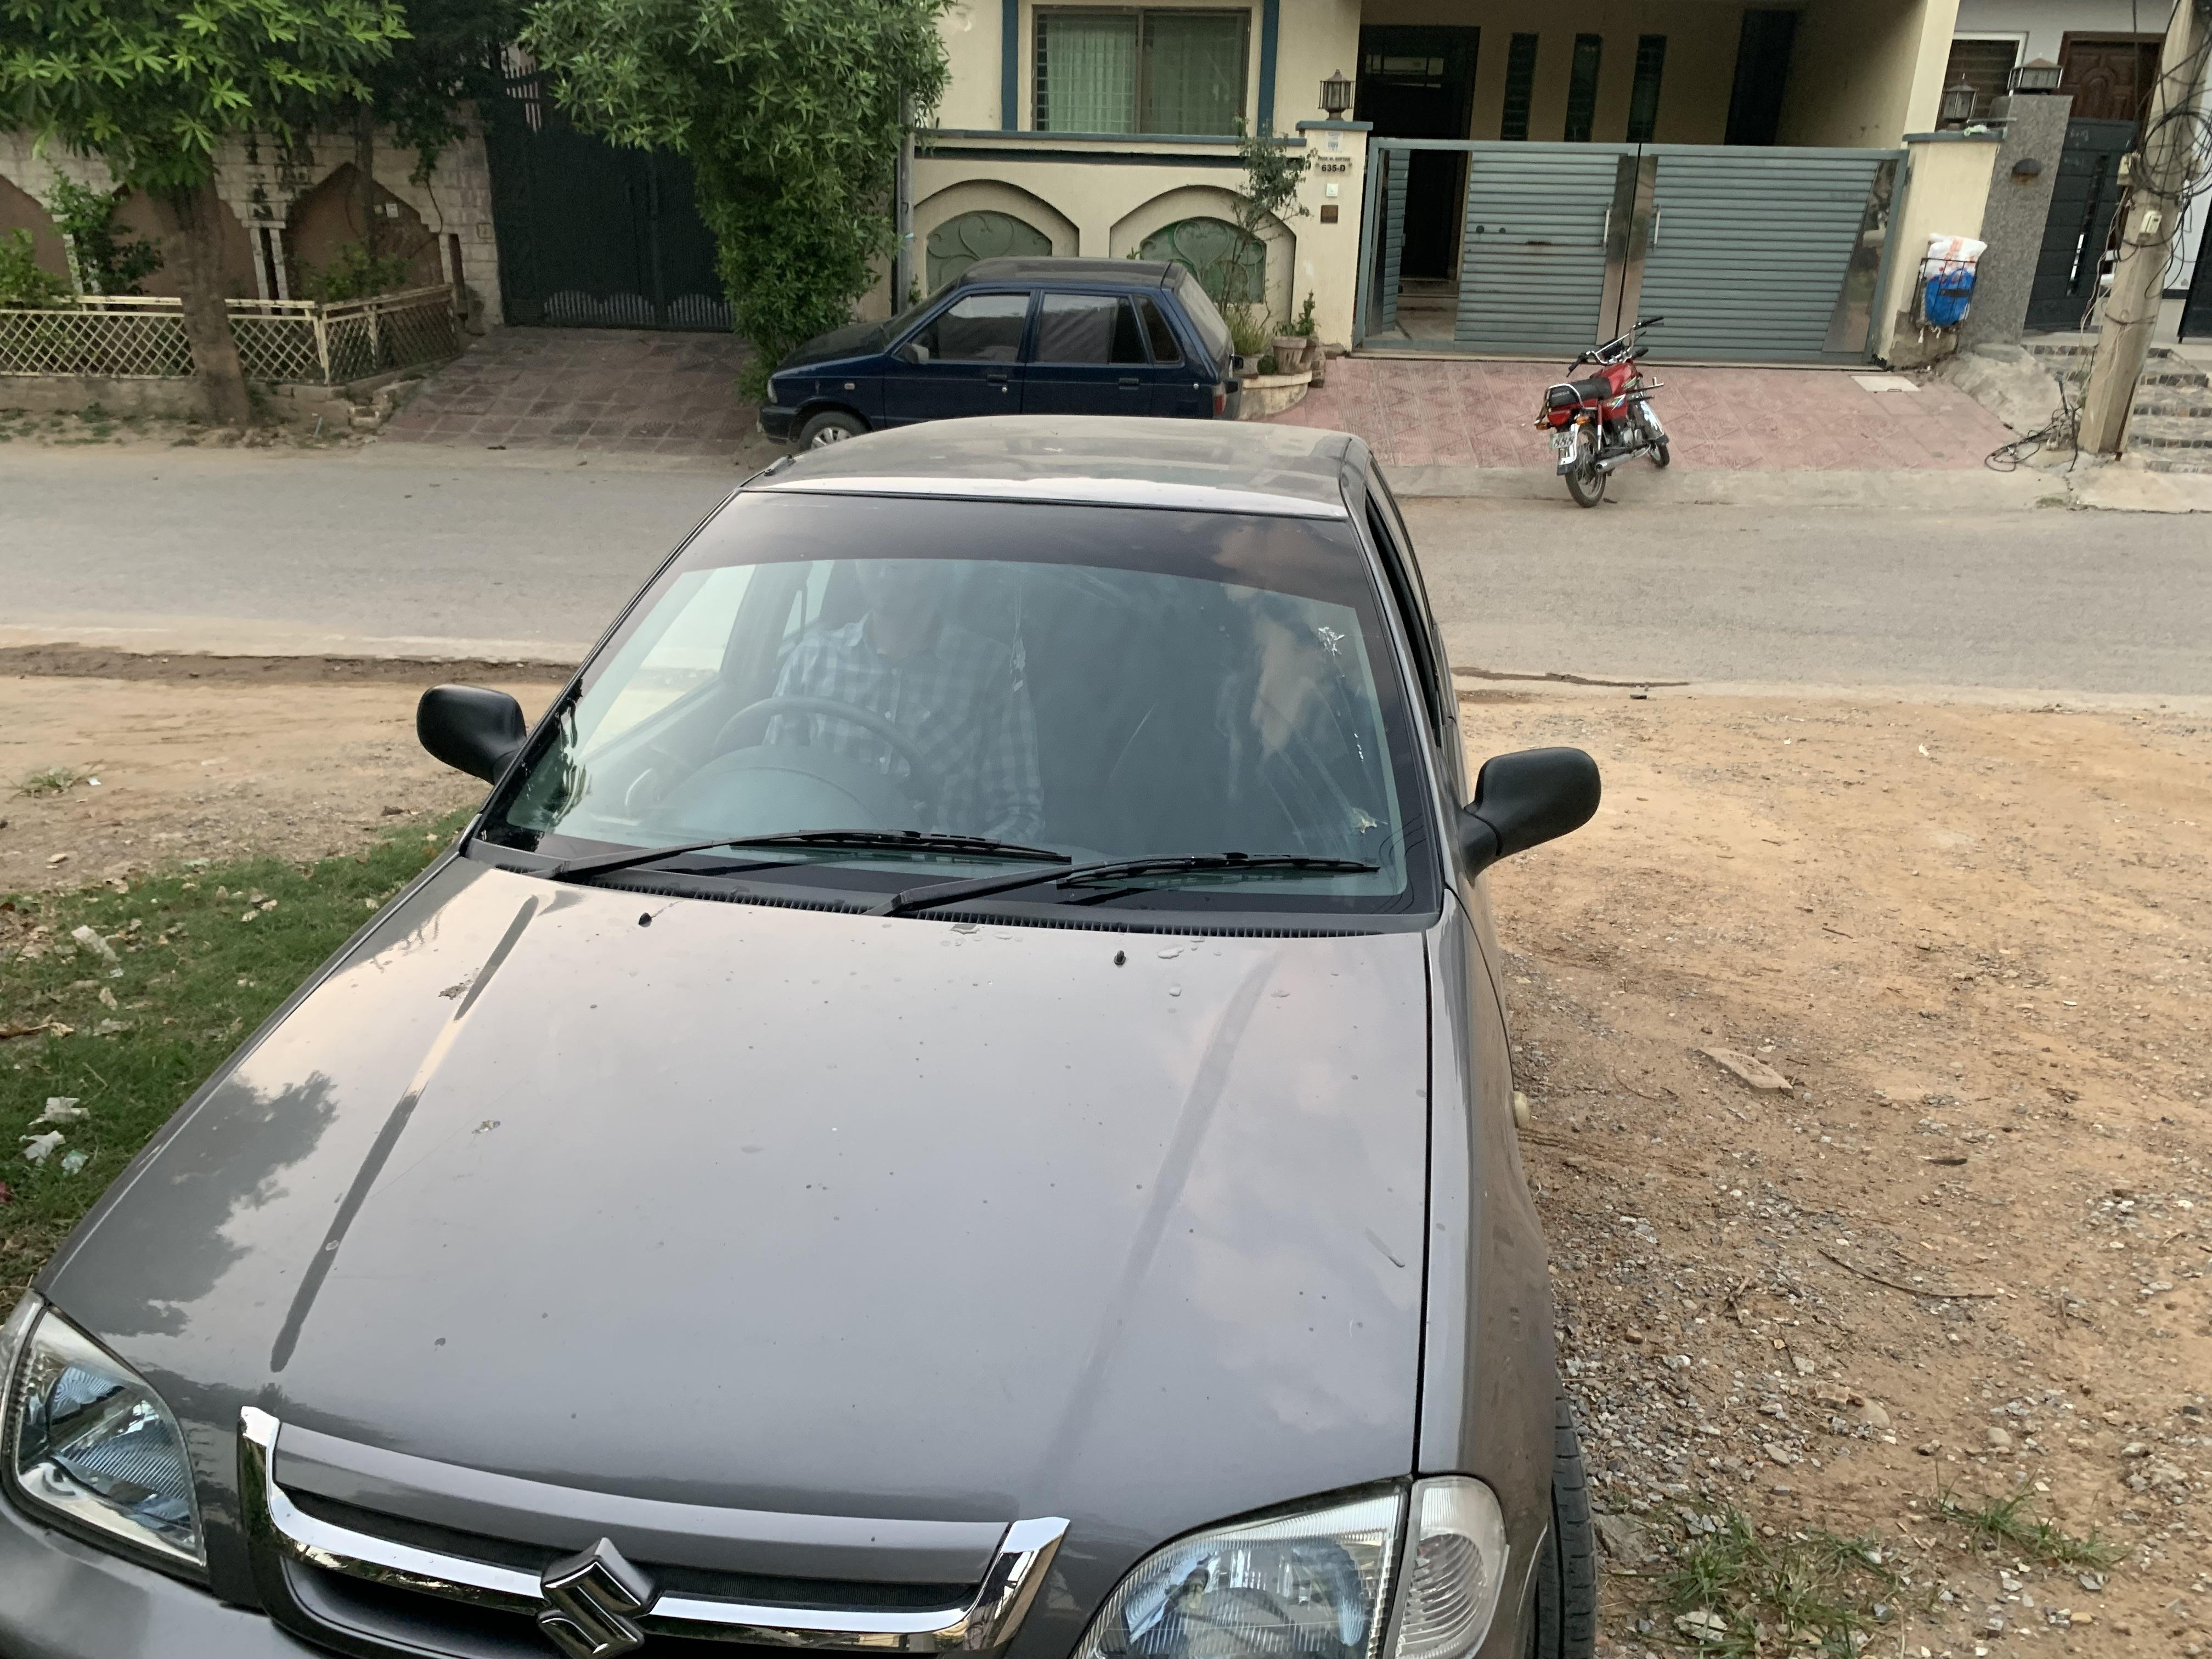windshield: (428, 472, 1449, 938)
